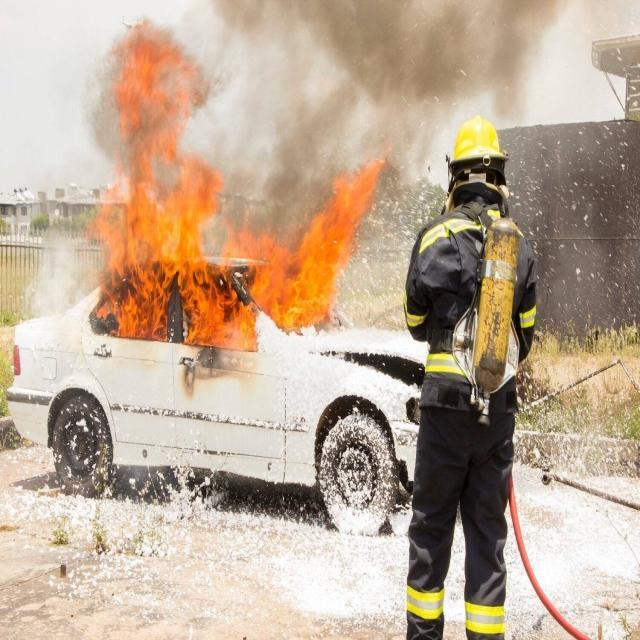Fire: (94, 24, 384, 352)
Smoke: (25, 2, 564, 320)
